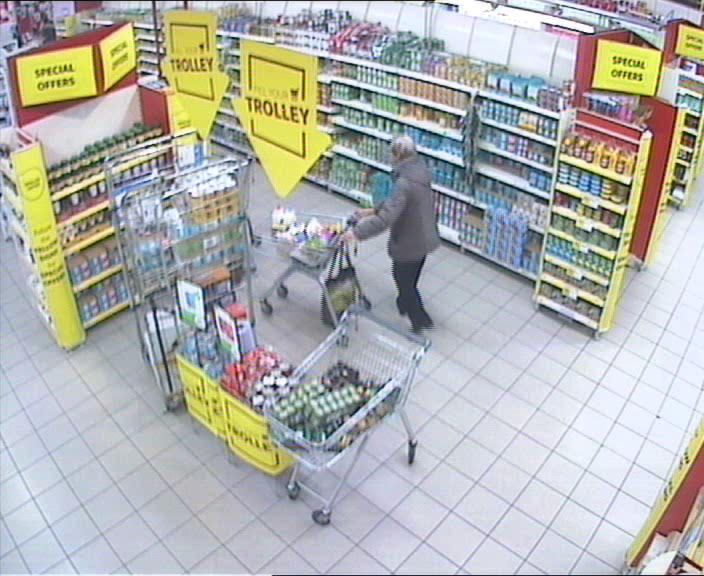filled-shopping-bags: (322, 264, 364, 326)
filled-trolly: (250, 205, 371, 316)
person: (346, 133, 442, 334)
person-with-basket-trolly-and-shopping-bag: (251, 133, 442, 333)
